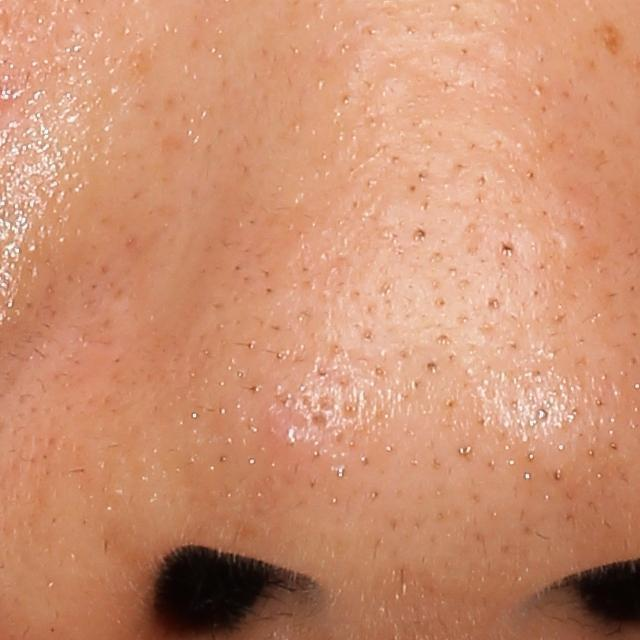comedo: (408, 222, 432, 245), (423, 357, 443, 377)
melasma: (595, 14, 627, 61)
